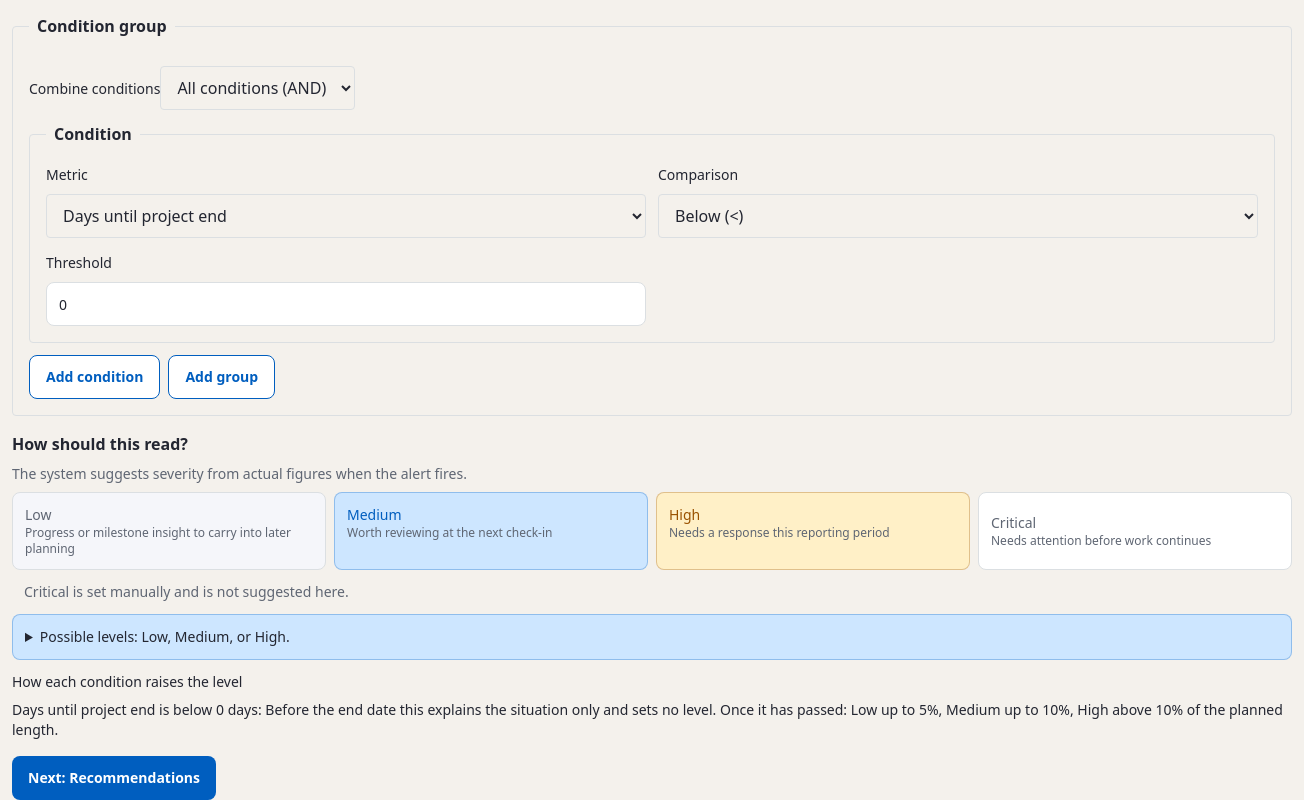
two-step rule editor navigation › blocks advancing to step 2 when step 1 is invalid and shows an error
(page scrolled)
Click the button "Next: Recommendations" at coordinates (114, 778), box 12,756 -> 216,799
(page scrolled)
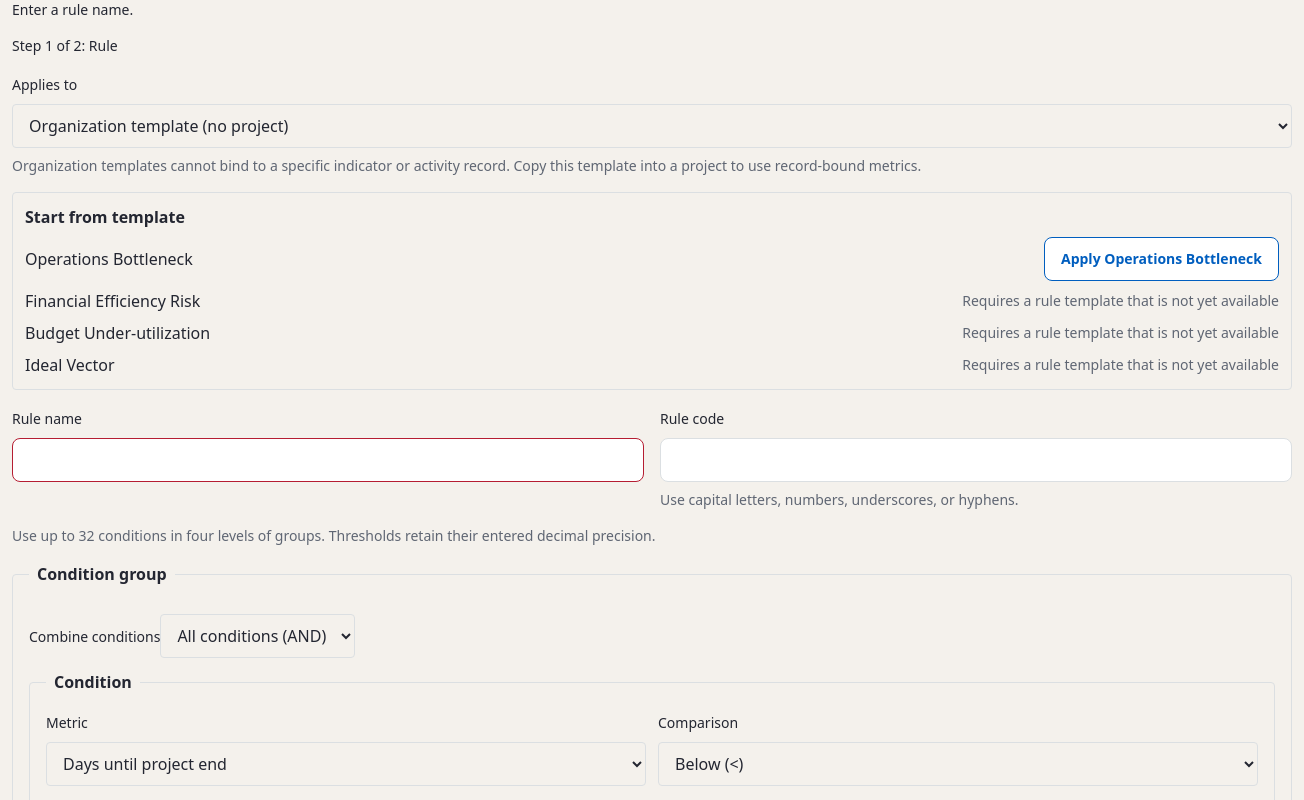
Check: the text "Enter a rule name." is shown, box 12,0 -> 133,19
